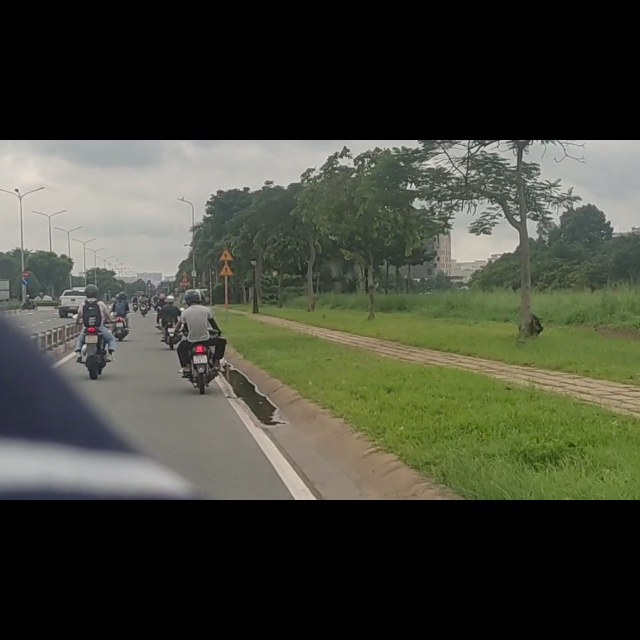bien_cam: (218, 220, 235, 243), (219, 193, 235, 215), (21, 245, 29, 258), (21, 233, 29, 244)
